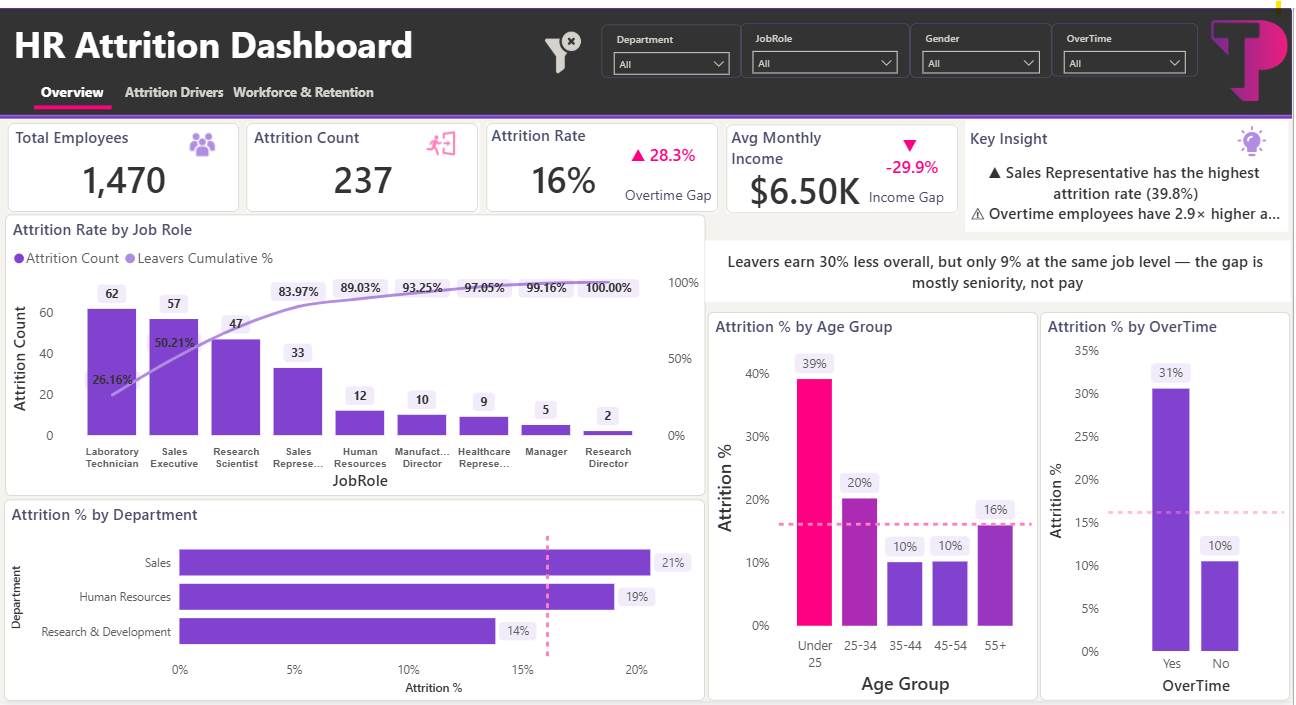

The page's visual inventory and layout, read from the dashboard file:
{"tool":"powerbi","page":{"name":"Overview","canvas":[1342,720],"ordinal":0},"visuals":[{"type":"shape","box":[0,5,1342,110.6],"z":0,"group":"g4"},{"type":"shape","box":[506,121,240,92],"z":0,"group":"g6"},{"type":"shape","box":[754.8,121.6,240,92],"z":0,"group":"g5"},{"type":"lineClusteredColumnComboChart","title":"Attrition Rate by Job Role","fields":{"Category":["Dim_JobRole.JobRole"],"Y":["Table_Measures.Attrition Count"],"Y2":["Table_Measures.Leavers Cumulative %"]},"box":[6.5,215.3,726.2,291.8],"z":0},{"type":"shape","box":[0,1.2,1342,110.9],"z":1000,"group":"g4"},{"type":"card","title":"\tOvertime Attrition","fields":{"Values":["Table_Measures.Income Gap Format"]},"box":[911.4,121.6,71.3,64.8],"z":1000,"group":"g5"},{"type":"card","title":"\tOvertime Attrition","fields":{"Values":["Table_Measures.Overtime Share Format"]},"box":[645.1,124.5,89.5,61],"z":1000,"group":"g6"},{"type":"clusteredBarChart","fields":{"Category":["Dim_Department.Department"],"Y":["Table_Measures.Attrition %"]},"box":[5.2,511,727.5,208.8],"z":1000},{"type":"image","box":[1253.3,0,89,110.9],"z":2000,"group":"g4"},{"type":"card","title":"Attrition Rate","fields":{"Values":["Table_Measures.Attrition %"]},"box":[506,122.1,162.1,90.9],"z":2000,"group":"g6"},{"type":"card","title":"\tAvg Monthly Income","fields":{"Values":["Table_Measures.Avg MonthlyIncome"]},"box":[754.8,122.7,162.1,90.9],"z":2000,"group":"g5"},{"type":"clusteredColumnChart","fields":{"Category":["Dim_EmployeeProfile.OverTime"],"Y":["Table_Measures.Attrition %"]},"box":[1080.3,316.4,259.4,403.3],"z":2000},{"type":"textbox","box":[645.1,179,101.2,33.7],"z":3000,"group":"g6"},{"type":"textbox","box":[897.1,181.3,97.3,32.4],"z":3000,"group":"g5"},{"type":"clusteredColumnChart","fields":{"Category":["Fact_Employee.Age Group"],"Y":["Table_Measures.Attrition %"]},"box":[735.3,316.4,342.4,403.3],"z":3000},{"type":"group","id":"g1","title":"Group 4","box":[257.4,120.8,240,92.5],"z":4000},{"type":"card","title":"\tTotal Employees","fields":{"Values":["Table_Measures.Total Employees"]},"box":[8.8,121,240,92],"z":4000,"group":"g2"},{"type":"group","id":"g2","title":"Group 5","box":[8.8,121,240,92],"z":5000},{"type":"card","title":"\tAttrition Count","fields":{"Values":["Table_Measures.Attrition Count"]},"box":[257.4,121.3,240,92],"z":5000,"group":"g1"},{"type":"slicer","fields":{"Values":["Dim_Department.Department"]},"box":[624.6,17.6,145.8,55.3],"z":6000,"group":"g4"},{"type":"group","id":"g3","title":"Group 6","box":[1002.5,118.5,334,114.9],"z":6000},{"type":"group","id":"g4","title":"Group 7","box":[0,0,1342.2,117.3],"z":7000},{"type":"slicer","fields":{"Values":["Dim_JobRole.JobRole"]},"box":[769.2,16.3,176,56.6],"z":7000,"group":"g4"},{"type":"slicer","fields":{"Values":["Fact_Employee.Gender"]},"box":[945.1,16.3,147,56.6],"z":8000,"group":"g4"},{"type":"group","id":"g5","title":"Group 1","box":[754.8,121.6,239.9,92.1],"z":8000},{"type":"slicer","fields":{"Values":["Fact_Employee.OverTime"]},"box":[1092.2,16.3,152.1,55.3],"z":9000,"group":"g4"},{"type":"group","id":"g6","title":"Group 1","box":[506,121,240.2,92],"z":9000},{"type":"group","id":"g7","title":"Group 6","box":[732.7,242.2,606.9,63.5],"z":10000},{"type":"textbox","box":[10.1,7.5,475.1,64.1],"z":11000,"group":"g4"},{"type":"shape","box":[26.4,57,100.5,60.3],"z":12000,"group":"g4"},{"type":"shape","box":[129.4,56.6,104.3,60.3],"z":13000,"group":"g4"},{"type":"shape","box":[236.3,56.6,159.6,60.3],"z":14000,"group":"g4"},{"type":"shape","box":[36.4,95.5,80.4,16.3],"z":15000,"group":"g4"},{"type":"image","box":[173.9,123.3,74.7,39.2],"z":17000,"group":"g2"},{"type":"card","title":"\tKey Insight","fields":{"Values":["Table_Measures.Key Insight - Overview"]},"box":[1002.5,125.2,334,108.2],"z":17001,"group":"g3"},{"type":"card","title":"\tKey Insight","fields":{"Values":["Table_Measures.Insight - Income Gap Precise"]},"box":[732.7,242.2,606.9,63.5],"z":17001,"group":"g7"},{"type":"image","box":[423.1,120.8,70.7,41.4],"z":17007,"group":"g1"},{"type":"image","box":[1261.2,118.5,75.2,42.8],"z":17009,"group":"g3"},{"type":"image","box":[544.2,20.1,80.4,52.8],"z":17010,"group":"g4"}]}

Visuals, with their boxes on the page's 1342x720 design canvas (x1, y1, x2, y2). These are canvas units, not pixel positions in the 1296x705 screenshot, which may show the page scaled, cropped or inside an application window:
shape: crop(0, 5, 1342, 116)
shape: crop(506, 121, 746, 213)
shape: crop(755, 122, 995, 214)
"Attrition Rate by Job Role" lineClusteredColumnComboChart: crop(6, 215, 733, 507)
shape: crop(0, 1, 1342, 112)
"	Overtime Attrition" card: crop(911, 122, 983, 186)
"	Overtime Attrition" card: crop(645, 124, 735, 186)
clusteredBarChart - Dim_Department.Department x Table_Measures.Attrition %: crop(5, 511, 733, 720)
image: crop(1253, 0, 1342, 111)
"Attrition Rate" card: crop(506, 122, 668, 213)
"	Avg Monthly Income" card: crop(755, 123, 917, 214)
clusteredColumnChart - Dim_EmployeeProfile.OverTime x Table_Measures.Attrition %: crop(1080, 316, 1340, 720)
textbox: crop(645, 179, 746, 213)
textbox: crop(897, 181, 994, 214)
clusteredColumnChart - Fact_Employee.Age Group x Table_Measures.Attrition %: crop(735, 316, 1078, 720)
"Group 4" group: crop(257, 121, 497, 213)
"	Total Employees" card: crop(9, 121, 249, 213)
"Group 5" group: crop(9, 121, 249, 213)
"	Attrition Count" card: crop(257, 121, 497, 213)
slicer - Dim_Department.Department: crop(625, 18, 770, 73)
"Group 6" group: crop(1002, 118, 1336, 233)
"Group 7" group: crop(0, 0, 1342, 117)
slicer - Dim_JobRole.JobRole: crop(769, 16, 945, 73)
slicer - Fact_Employee.Gender: crop(945, 16, 1092, 73)
"Group 1" group: crop(755, 122, 995, 214)
slicer - Fact_Employee.OverTime: crop(1092, 16, 1244, 72)
"Group 1" group: crop(506, 121, 746, 213)
"Group 6" group: crop(733, 242, 1340, 306)
textbox: crop(10, 8, 485, 72)
shape: crop(26, 57, 127, 117)
shape: crop(129, 57, 234, 117)
shape: crop(236, 57, 396, 117)
shape: crop(36, 96, 117, 112)
image: crop(174, 123, 249, 162)
"	Key Insight" card: crop(1002, 125, 1336, 233)
"	Key Insight" card: crop(733, 242, 1340, 306)
image: crop(423, 121, 494, 162)
image: crop(1261, 118, 1336, 161)
image: crop(544, 20, 625, 73)
